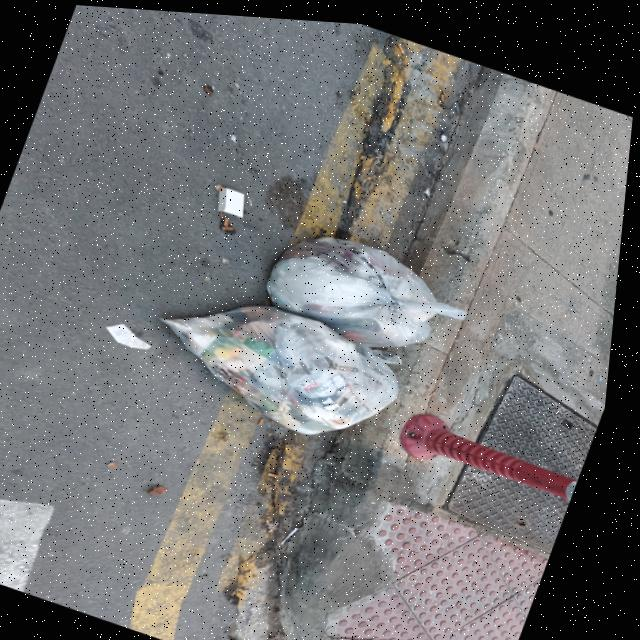Organic Waste -White Bag-: (144, 272, 424, 456), (257, 212, 465, 360)
